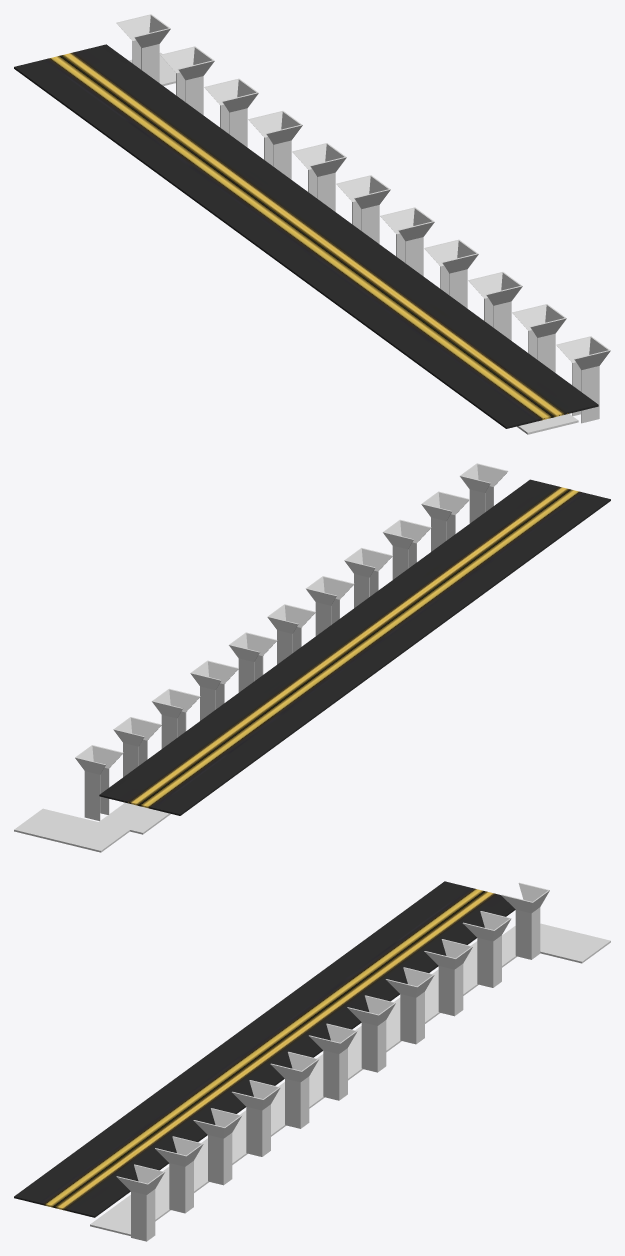
The model's file is nakdongkang2.glb.
3 renders of one model, top to bottom at view 1: azimuth 30°, elevation 25°; view 2: azimuth 150°, elevation 25°; view 3: azimuth 330°, elevation 25°, orthographic. The views are drawn at different scales.
Visible parts, largest first — view 1: 큐브, 1번보, 2번보, 4번보, 5번보, 9번보, 7번보, 10번보, 3번보, 11번보, 8번보, 6번보 (+1 smaller); view 2: 큐브, 바닥공간, 11번보, 7번보, 9번보, 1번보, 5번보, 3번보, 6번보, 10번보, 4번보, 8번보 (+1 smaller); view 3: 큐브, 바닥공간, 11번보, 7번보, 9번보, 2번보, 5번보, 6번보, 8번보, 3번보, 1번보, 10번보 (+1 smaller).
Boxes of the visible parts, x1,y1,x2,y2 form: 큐브: (14,44,598,428); 1번보: (556,336,610,423); 2번보: (512,304,566,372); 4번보: (424,239,478,308); 5번보: (380,207,434,276); 9번보: (204,78,258,147); 7번보: (292,143,346,211); 10번보: (160,46,214,115); 3번보: (468,272,522,340); 11번보: (116,14,170,82); 8번보: (248,111,302,179); 6번보: (336,175,390,243); 큐브: (99,479,610,815); 바닥공간: (14,802,170,852); 11번보: (75,745,123,820); 7번보: (229,632,277,692); 9번보: (152,688,200,748); 1번보: (460,463,508,523); 5번보: (306,576,354,635); 3번보: (383,519,431,579); 6번보: (267,604,315,664); 10번보: (113,717,161,777); 4번보: (344,548,392,607); 8번보: (190,660,238,720); 큐브: (14,881,515,1217); 바닥공간: (90,923,610,1236); 11번보: (501,882,549,959); 7번보: (347,995,395,1072); 9번보: (424,939,472,1016); 2번보: (155,1136,203,1213); 5번보: (270,1051,319,1128); 6번보: (309,1023,357,1100); 8번보: (385,967,434,1044); 3번보: (193,1108,242,1185); 1번보: (116,1164,164,1241); 10번보: (462,911,511,987).
Size of the model in its own units: 133 by 54.19 by 701.
1 material, 1 textured.
